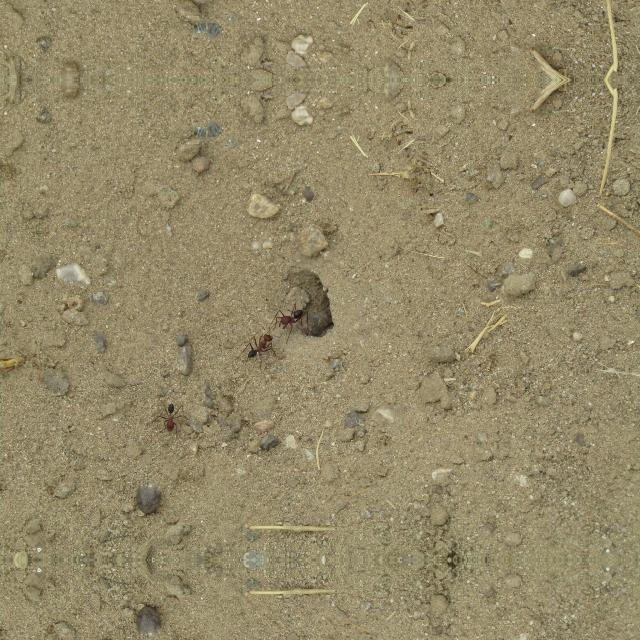Cataglyphis: (242, 330, 276, 360), (159, 402, 183, 434), (274, 306, 308, 328)
